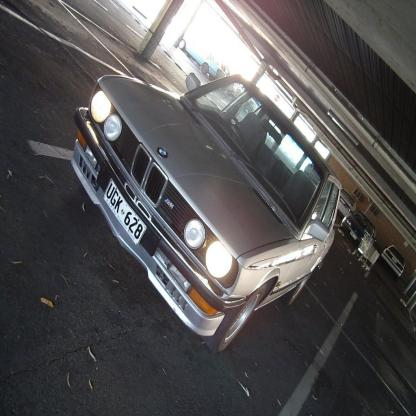Car: (71, 52, 343, 352), (182, 35, 224, 83), (337, 219, 376, 257), (340, 187, 357, 220), (387, 245, 403, 279)
